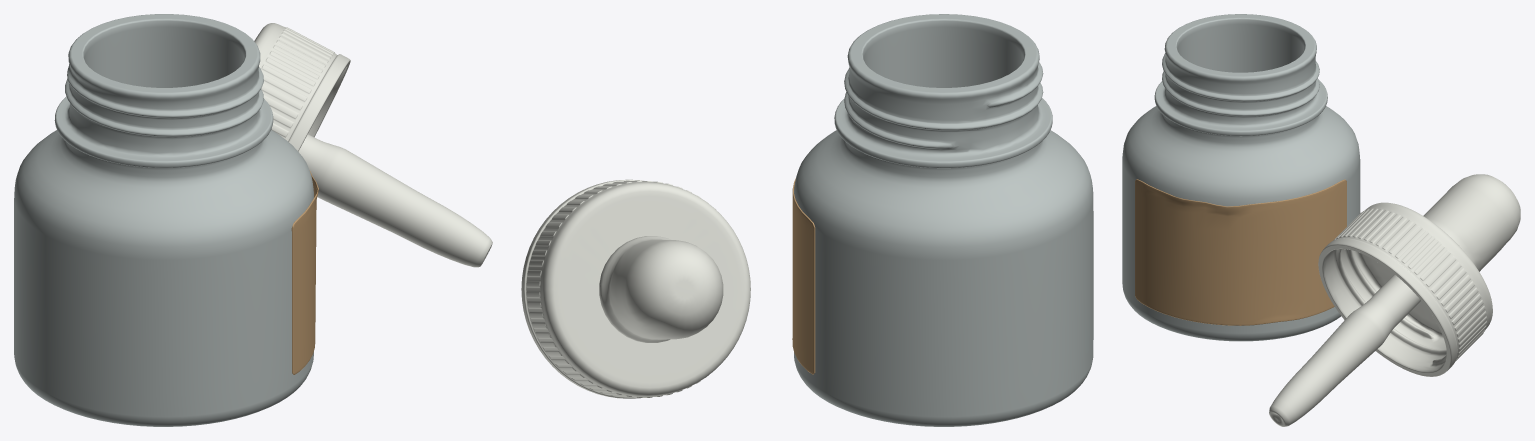
Rendered from paint_container_bottle_yellow_a04.glb.
The picture shows the model from 3 angles, left to right: view 1: azimuth 30°, elevation 25°; view 2: azimuth 150°, elevation 25°; view 3: azimuth 270°, elevation 25°; orthographic projection. The views are drawn at different scales.
Bounding box in the file's own units: 0.0936 × 0.0582 × 0.0842.
